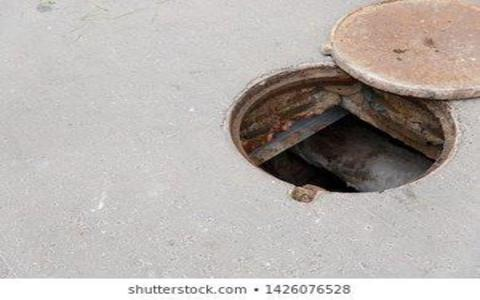open manhole: (231, 56, 465, 197)
